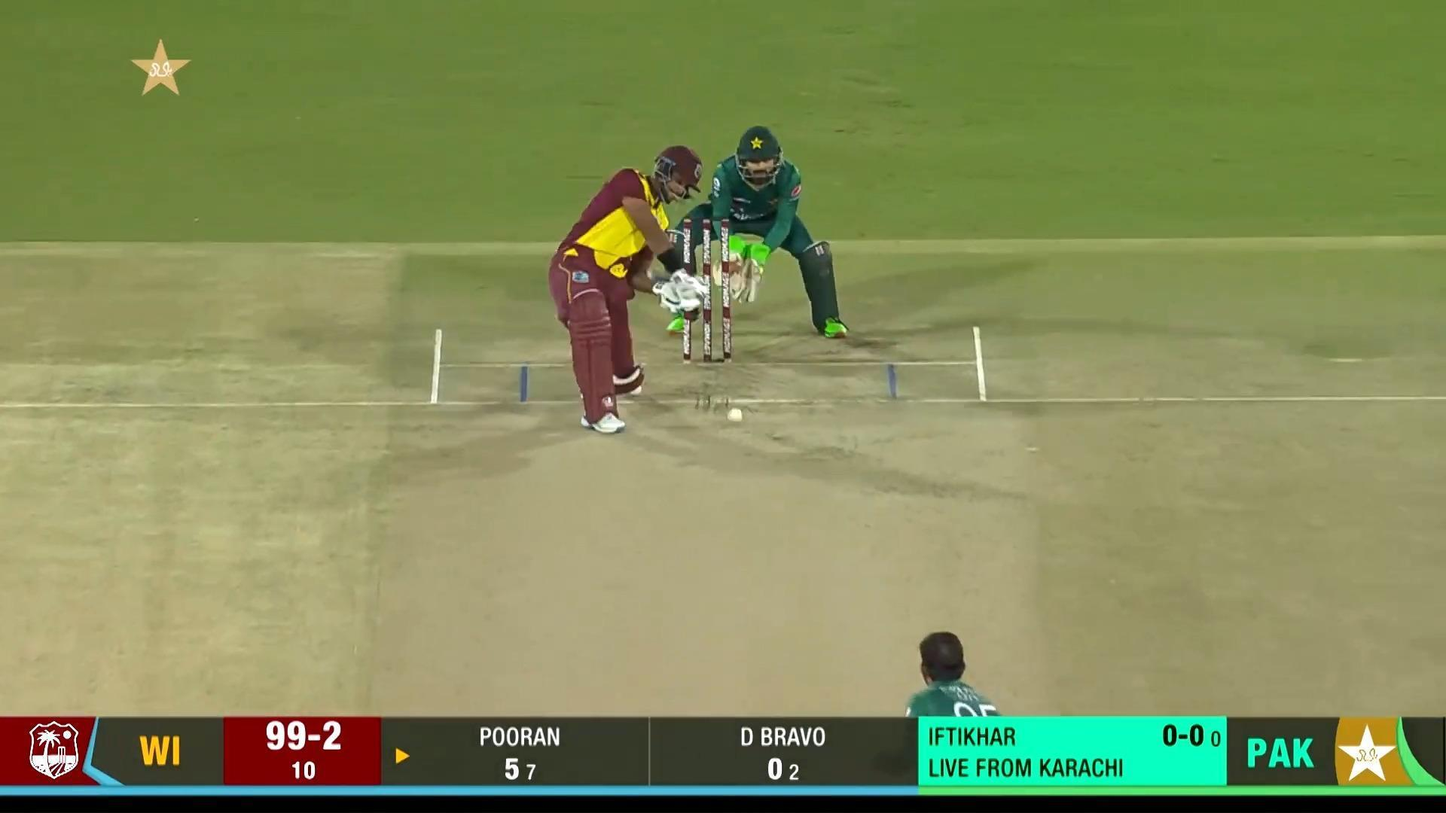BM 1: (547, 144, 707, 437)
BO: (869, 627, 1035, 813)
